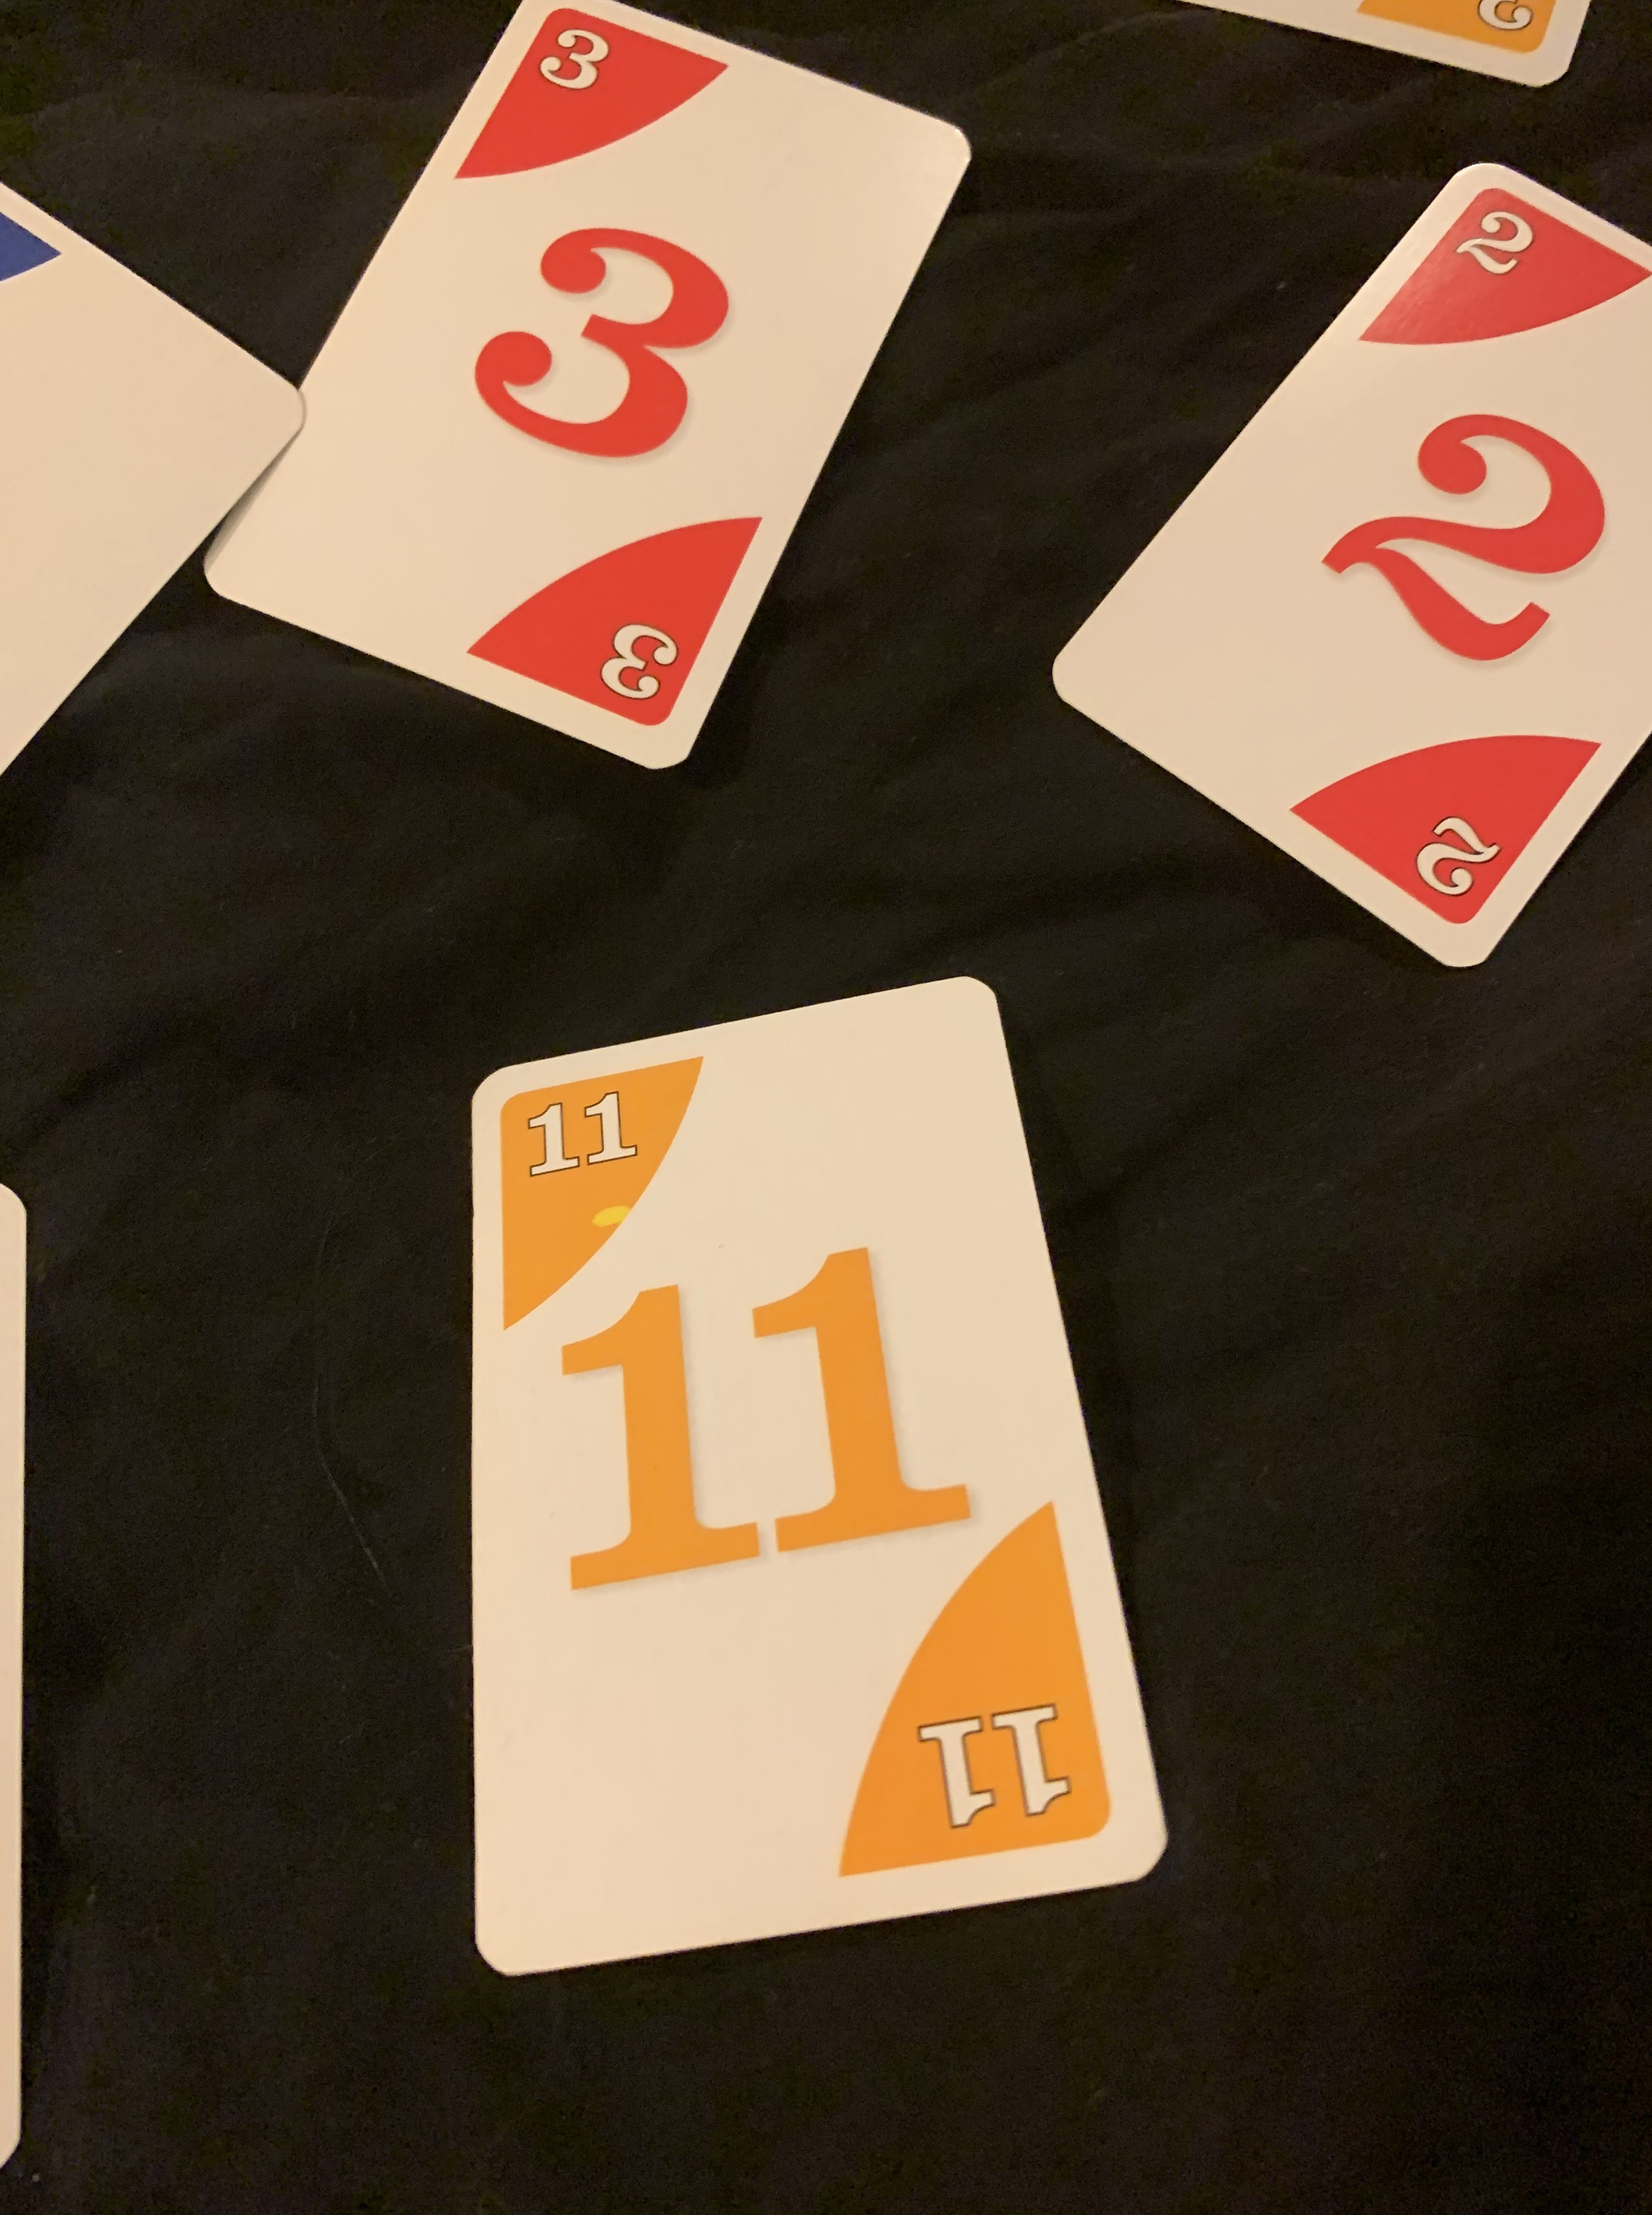eleven: (460, 972, 1175, 1970)
three: (184, 0, 973, 792)
two: (1052, 154, 1652, 983)
